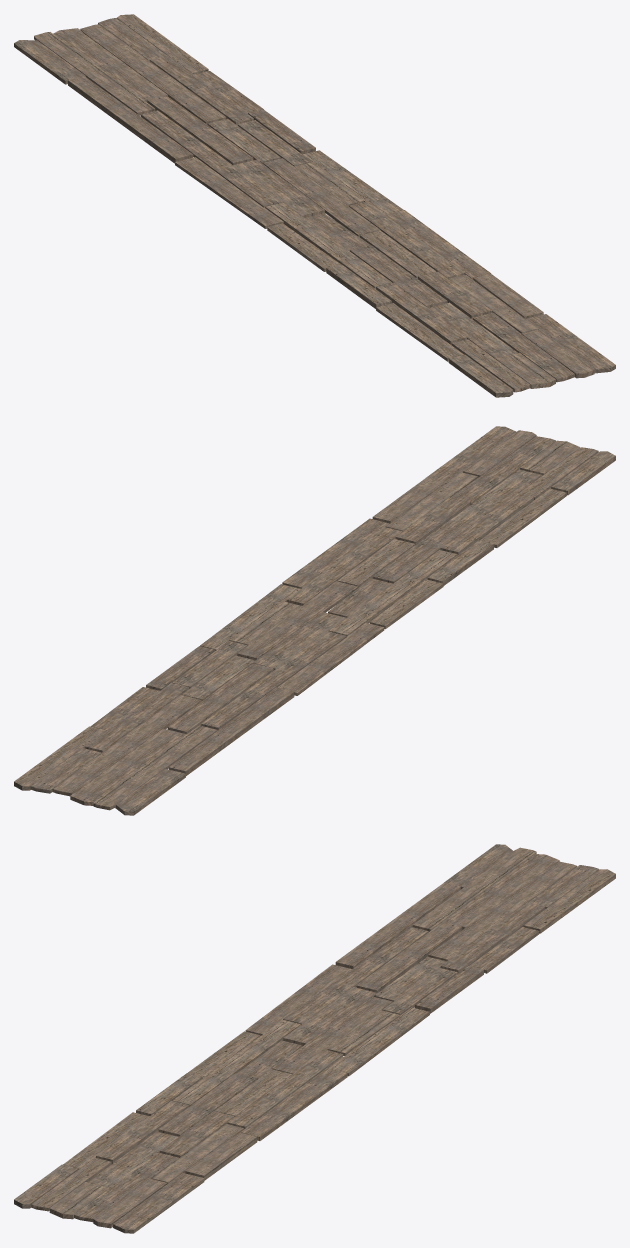
Rendered from Prop_Mq02_lod1.glb.
3 renders of one model, top to bottom at view 1: azimuth 30°, elevation 25°; view 2: azimuth 150°, elevation 25°; view 3: azimuth 330°, elevation 25°, orthographic.
Visible parts, largest first — view 1: xiutz_mq_02_lod1; view 2: xiutz_mq_02_lod1; view 3: xiutz_mq_02_lod1.
Part boxes in pixels (box(x1,y1,x2,y2)): xiutz_mq_02_lod1: box(14, 14, 615, 397); xiutz_mq_02_lod1: box(14, 426, 615, 815); xiutz_mq_02_lod1: box(14, 844, 615, 1233).
Size of the model in its own units: 3.96 by 0.2048 by 27.1.
1 material, 1 textured.
